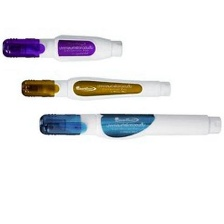correction_fluid: (36, 110, 223, 144), (19, 75, 172, 101), (1, 32, 124, 63)
